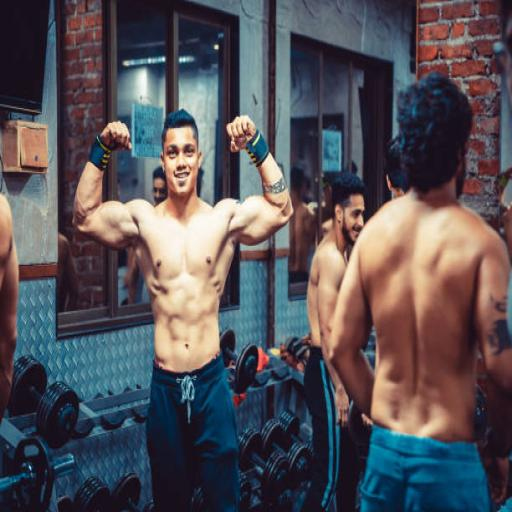Person: (69, 142, 301, 415), (320, 130, 507, 427), (300, 187, 356, 424)
no_gloves: (105, 159, 144, 196), (220, 162, 264, 192), (326, 326, 344, 364)
no_goggle: (166, 179, 200, 196), (339, 222, 361, 235)
no_helmet: (384, 136, 470, 224), (154, 158, 212, 200), (328, 198, 360, 246)
none: (348, 211, 485, 380), (127, 204, 260, 336), (306, 229, 346, 355)
